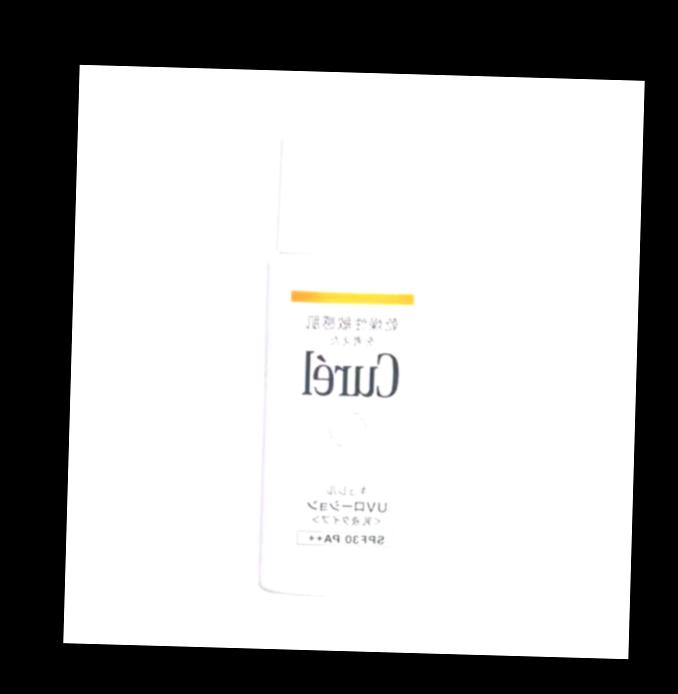cosmetic: (257, 133, 444, 594)
